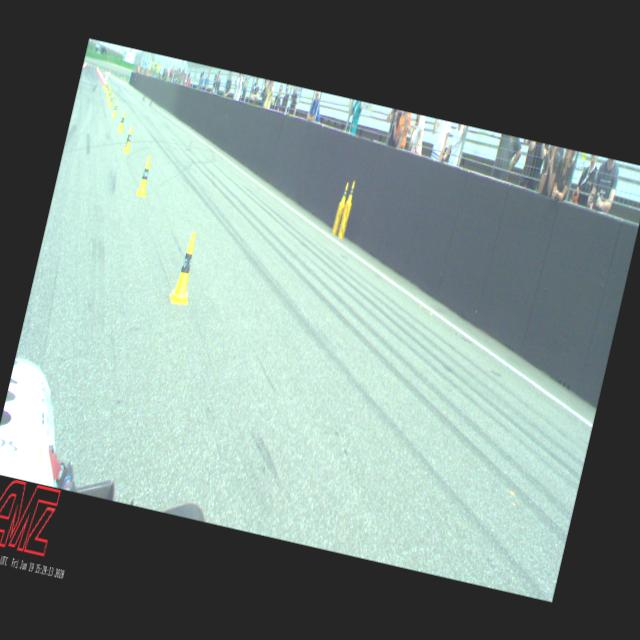large_orange_cone: (102, 72, 109, 86)
yellow_cone: (167, 229, 204, 306), (135, 154, 155, 197), (122, 125, 134, 154), (344, 180, 356, 206), (339, 181, 349, 206), (116, 110, 126, 132), (112, 99, 120, 117), (108, 92, 114, 108), (106, 88, 112, 101), (104, 81, 109, 92), (106, 85, 110, 96), (102, 79, 106, 89)
